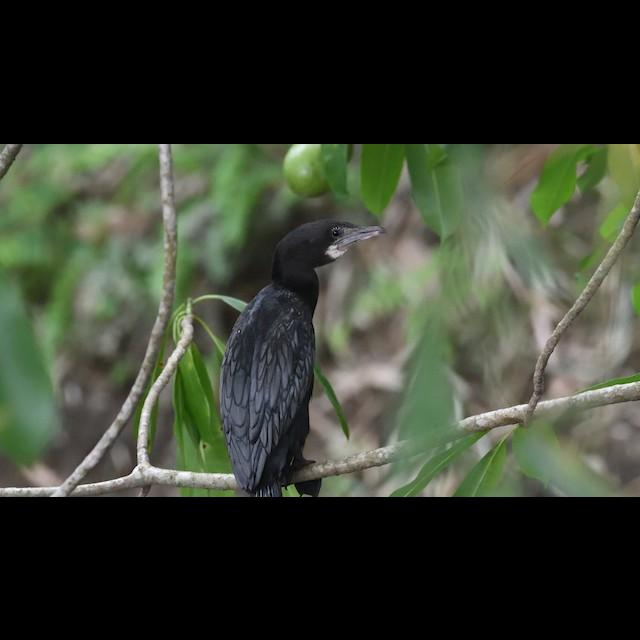cormorant: (206, 212, 388, 494)
